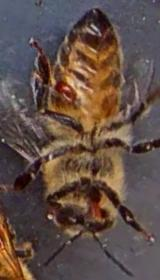varroa_mite: (43, 69, 85, 111)
